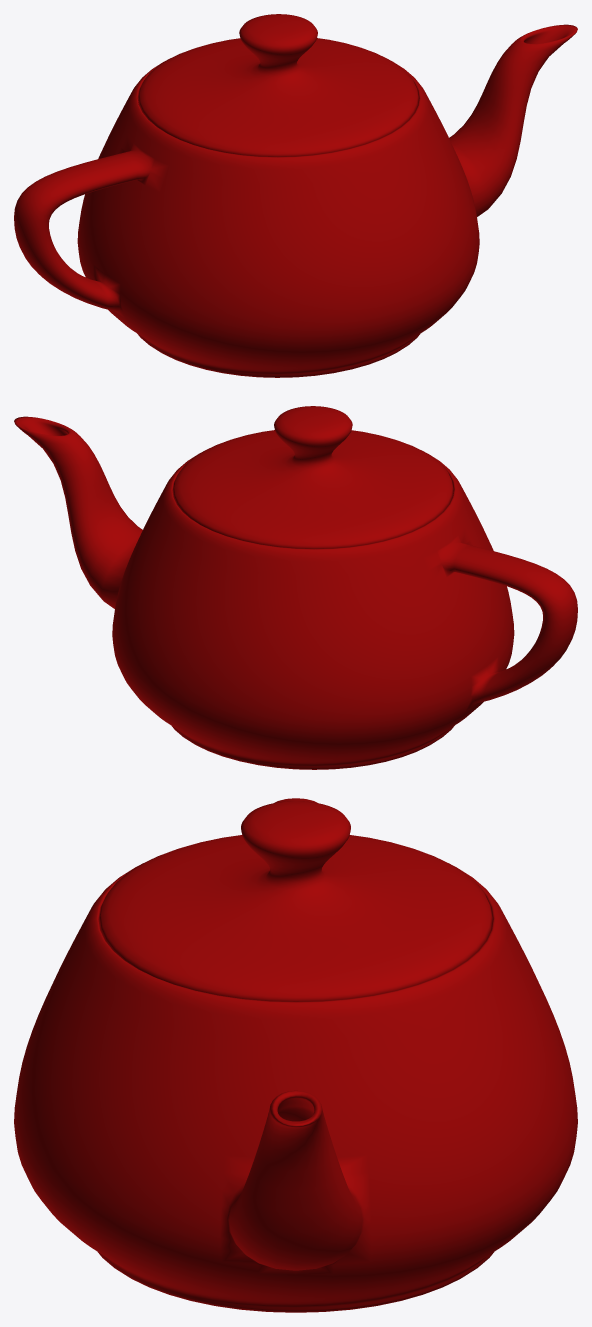
File: teapot.obj
The picture shows the model from 3 angles, top to bottom: view 1: azimuth 30°, elevation 25°; view 2: azimuth 150°, elevation 25°; view 3: azimuth 270°, elevation 25°; orthographic projection. The views are drawn at different scales.
Visible parts, largest first — view 1: teapot; view 2: teapot; view 3: teapot.
Boxes of the visible parts, x1,y1,x2,y2 form: teapot: [14, 14, 577, 377]; teapot: [14, 406, 577, 769]; teapot: [14, 798, 577, 1312].
Bounding box in the file's own units: 154 × 79.01 × 95.86.
